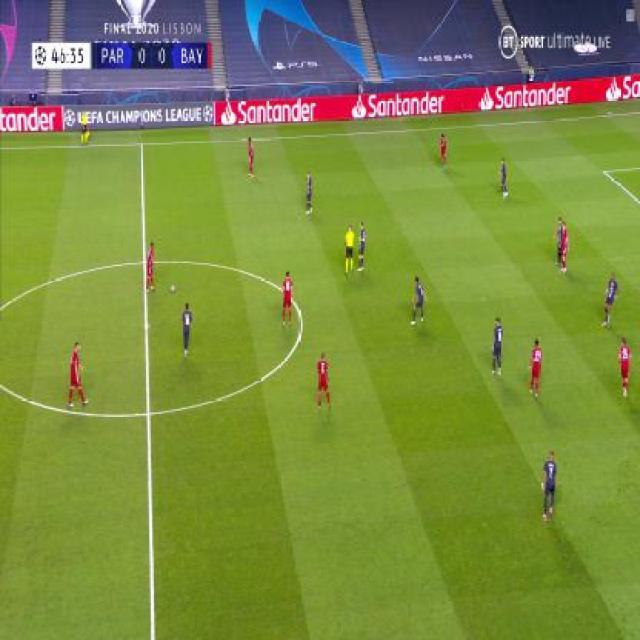ball: (171, 283, 176, 292)
player: (66, 340, 89, 409), (541, 449, 558, 523), (600, 271, 619, 327), (527, 338, 544, 400), (316, 351, 332, 410), (617, 338, 631, 400), (410, 275, 427, 324), (490, 316, 503, 378), (554, 218, 568, 274), (281, 270, 294, 329), (180, 302, 193, 359), (342, 222, 355, 276), (145, 240, 158, 293), (355, 221, 368, 272), (246, 136, 257, 179), (498, 156, 509, 198), (305, 170, 314, 216), (79, 110, 90, 146), (439, 132, 448, 171)
